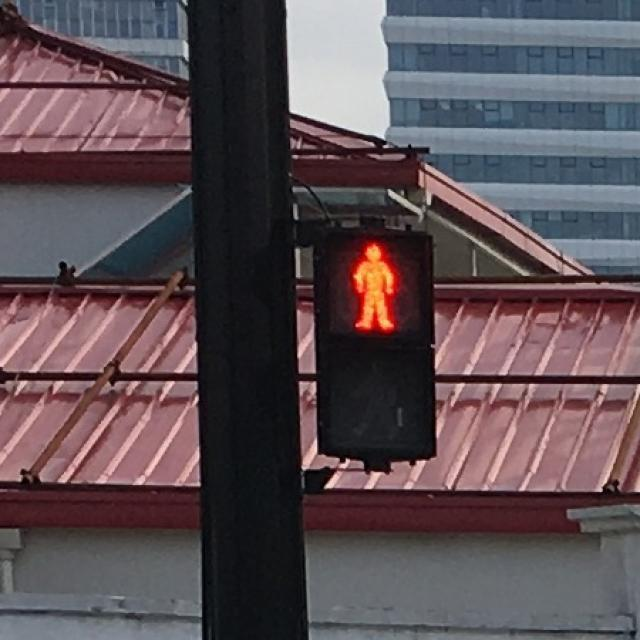red-crossing: (324, 232, 427, 334)
